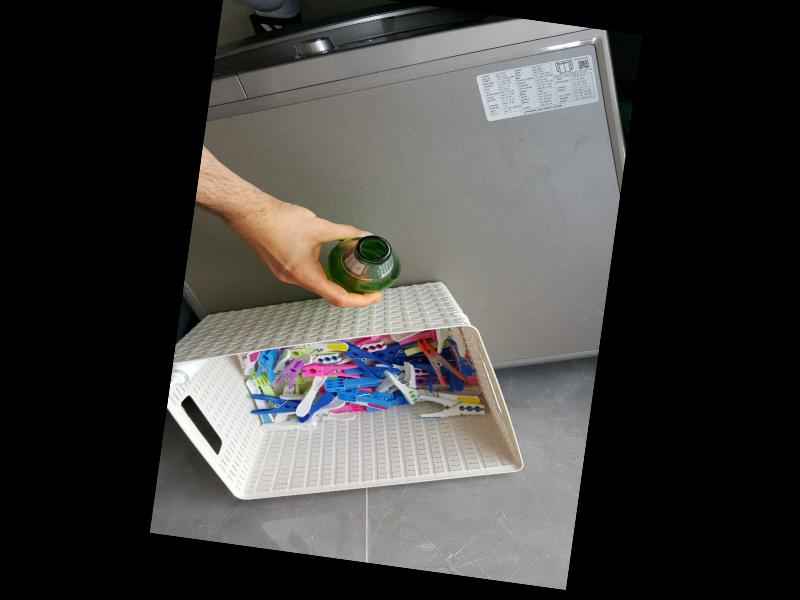Beer: (322, 228, 405, 298)
